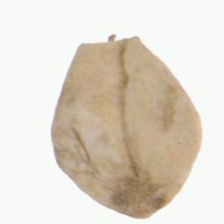L4: (49, 36, 201, 219)
